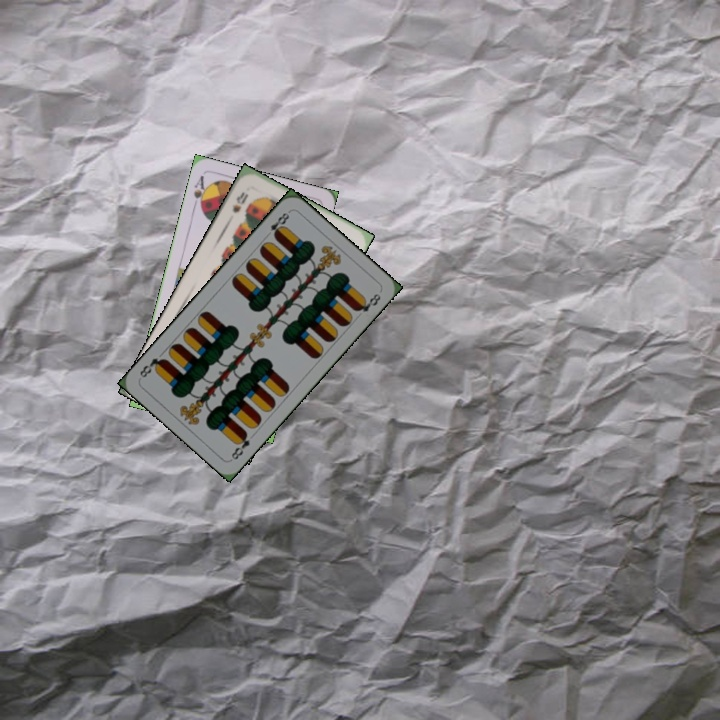E8: (261, 207, 292, 240), (227, 428, 253, 462)
S8: (228, 188, 251, 215)
SA: (189, 171, 210, 213)
